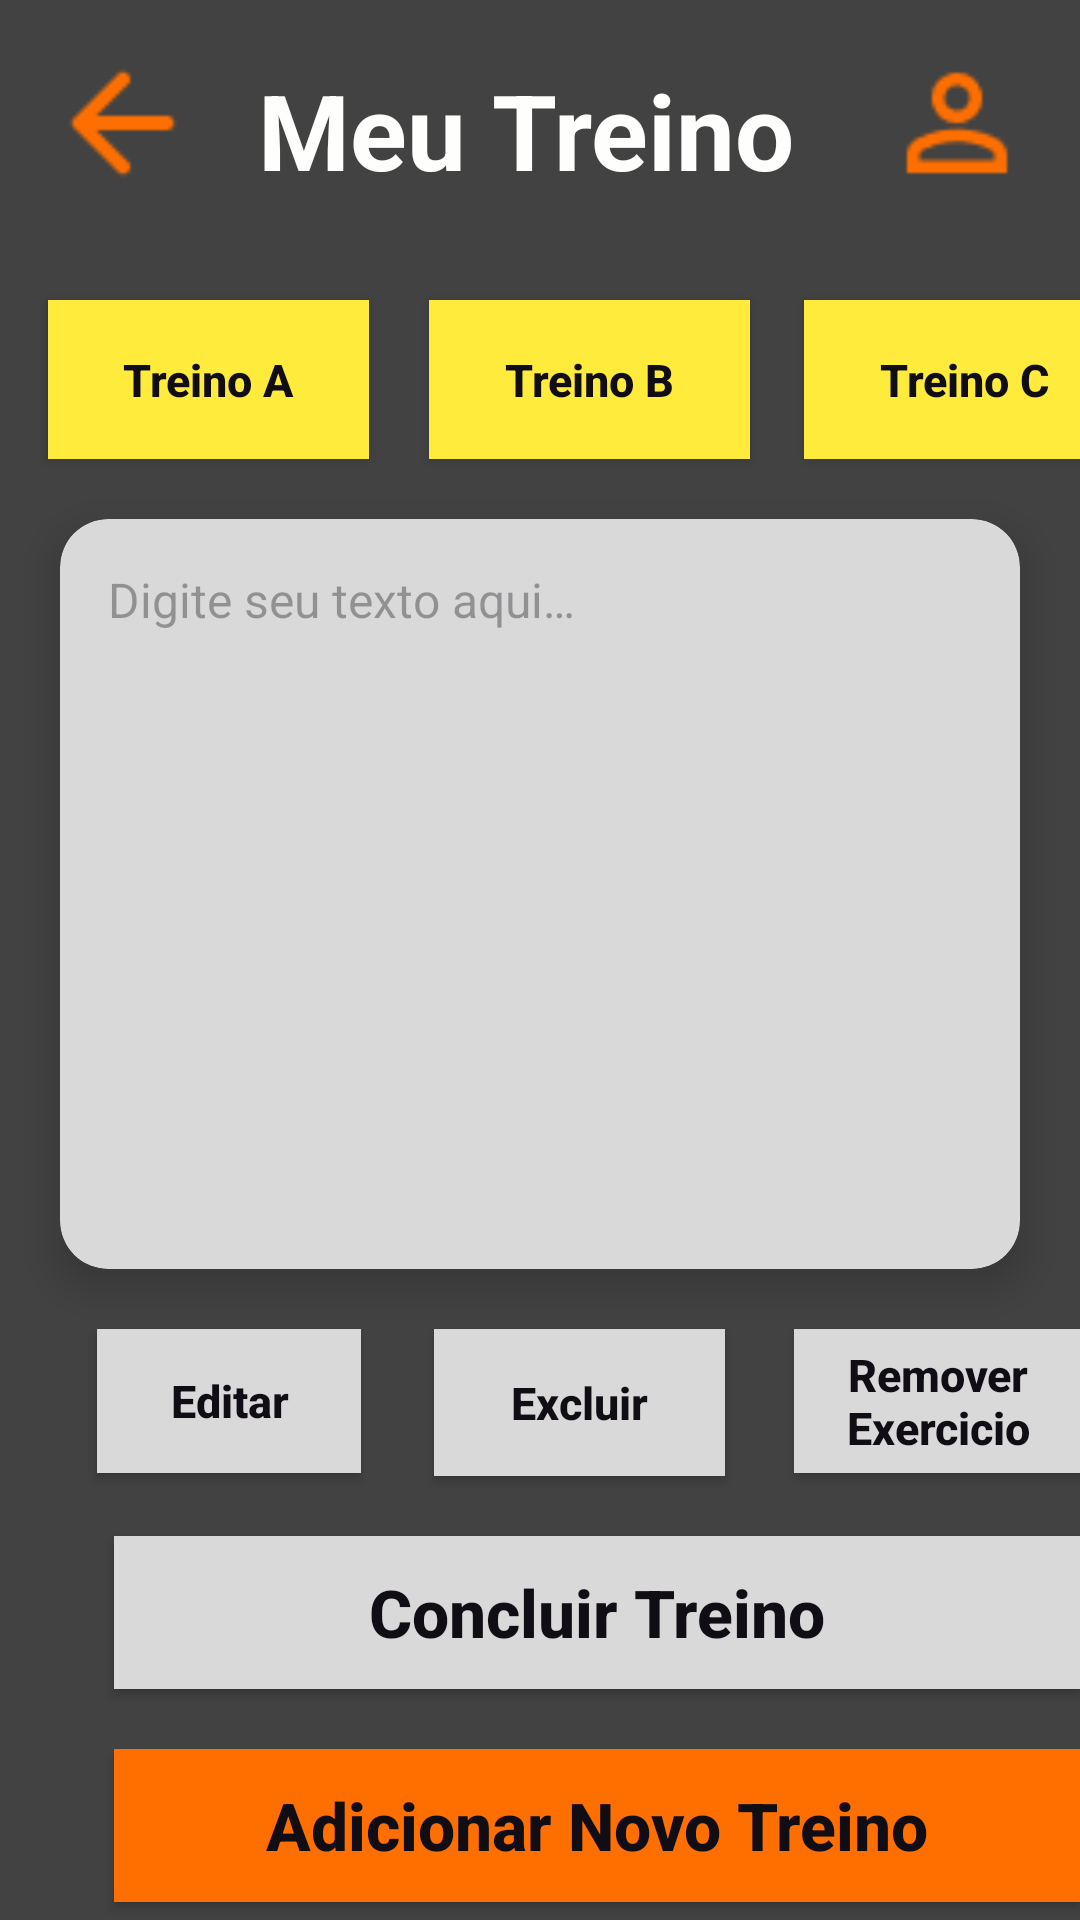

Icon click points for this 1080 × 1920 phone screenshot, format [x,y]:
person: [957,123]
seta: [123,123]
